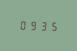five: (48, 20, 57, 31)
nine: (28, 19, 37, 30)
three: (38, 20, 47, 31)
zero: (18, 19, 27, 30)
